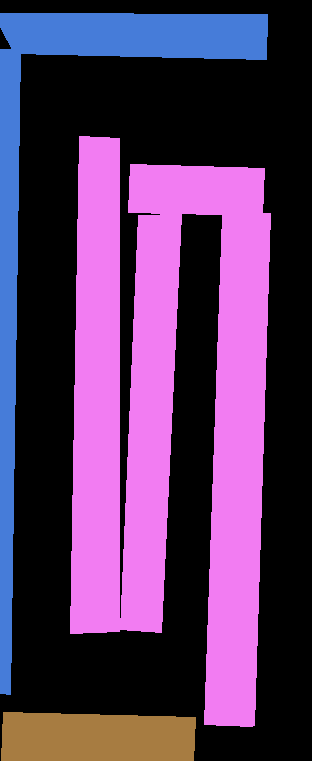parkingspot: (204, 213, 270, 726), (120, 214, 181, 632), (70, 136, 119, 633), (0, 49, 20, 694), (0, 13, 267, 59), (1, 712, 195, 761), (128, 164, 264, 215)
